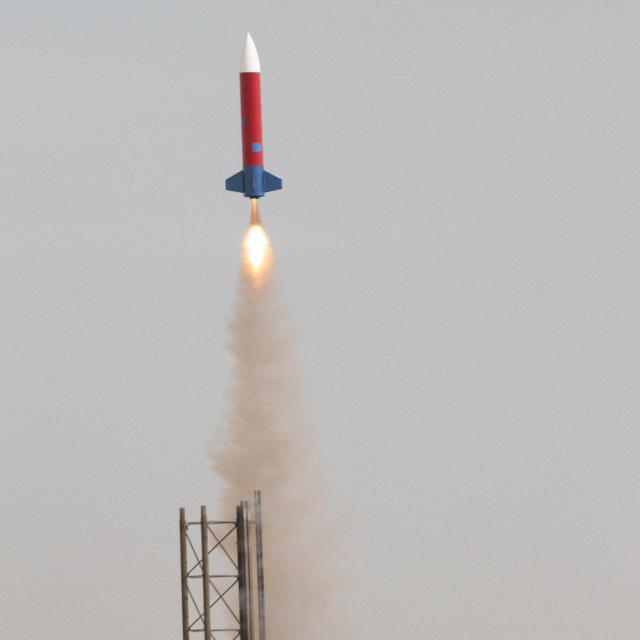Rocket: (225, 32, 283, 200)
